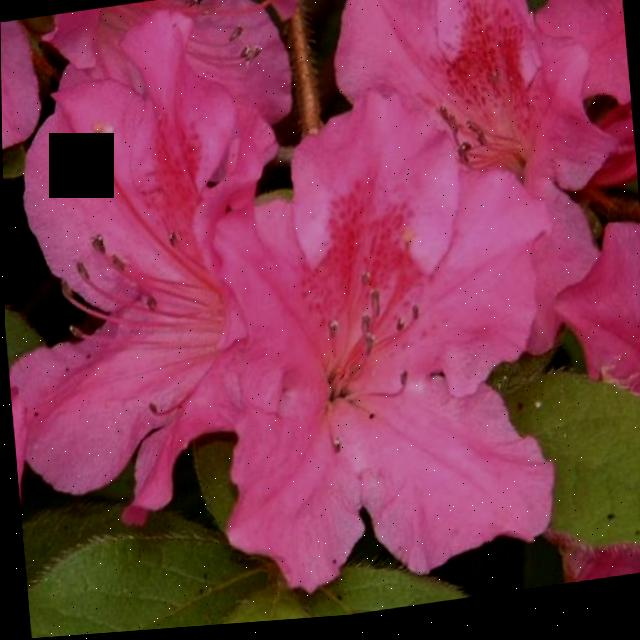azalea: (1, 57, 358, 526), (216, 150, 550, 591), (367, 0, 640, 319)
